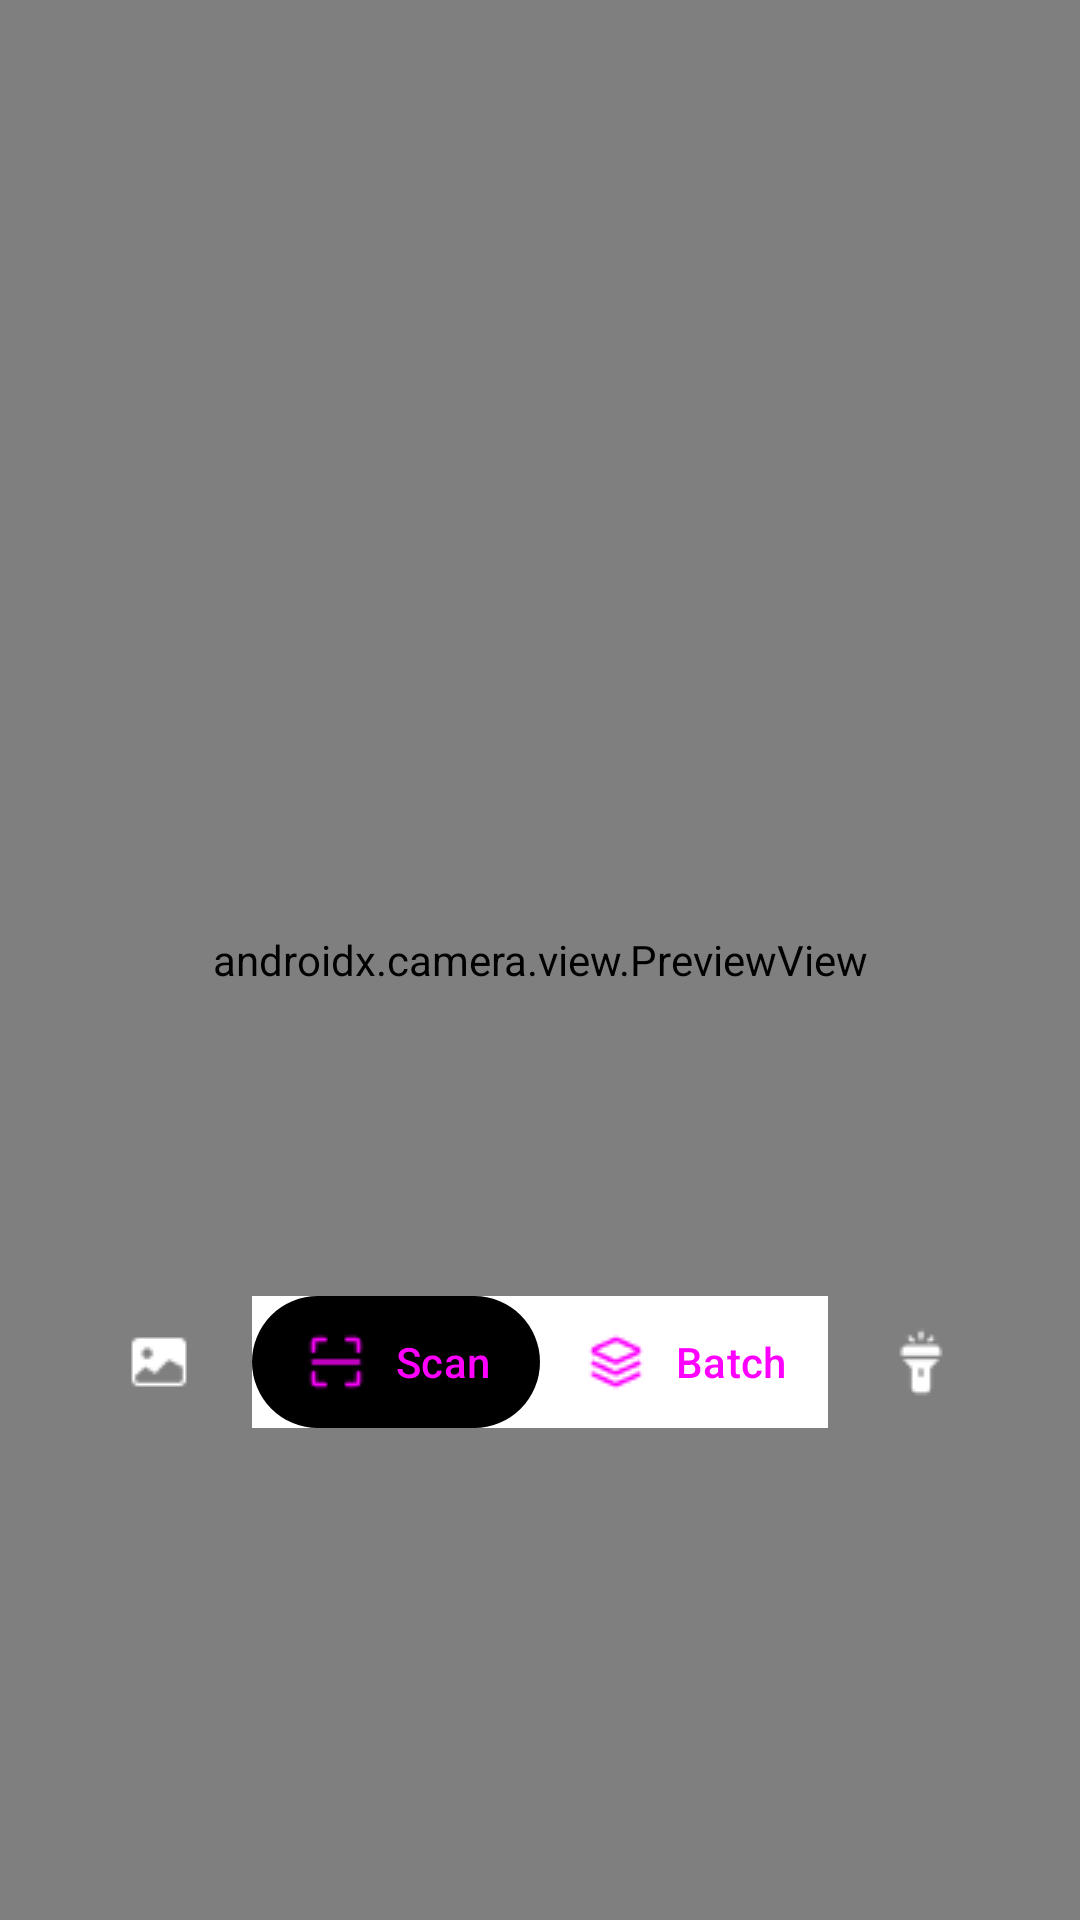

Locate icon controls on the screen. Image size 1080 x 1920, boxes as [x1, y1, x2, y2].
flashlight: [900, 1331, 942, 1394]
gallery: [131, 1337, 187, 1387]
